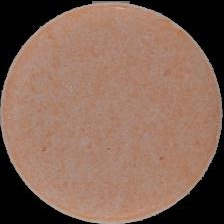55700-301: (0, 0, 224, 224)
